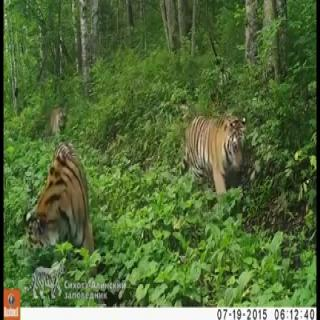Tiger: (19, 142, 98, 263), (177, 101, 250, 202), (46, 100, 70, 136)
